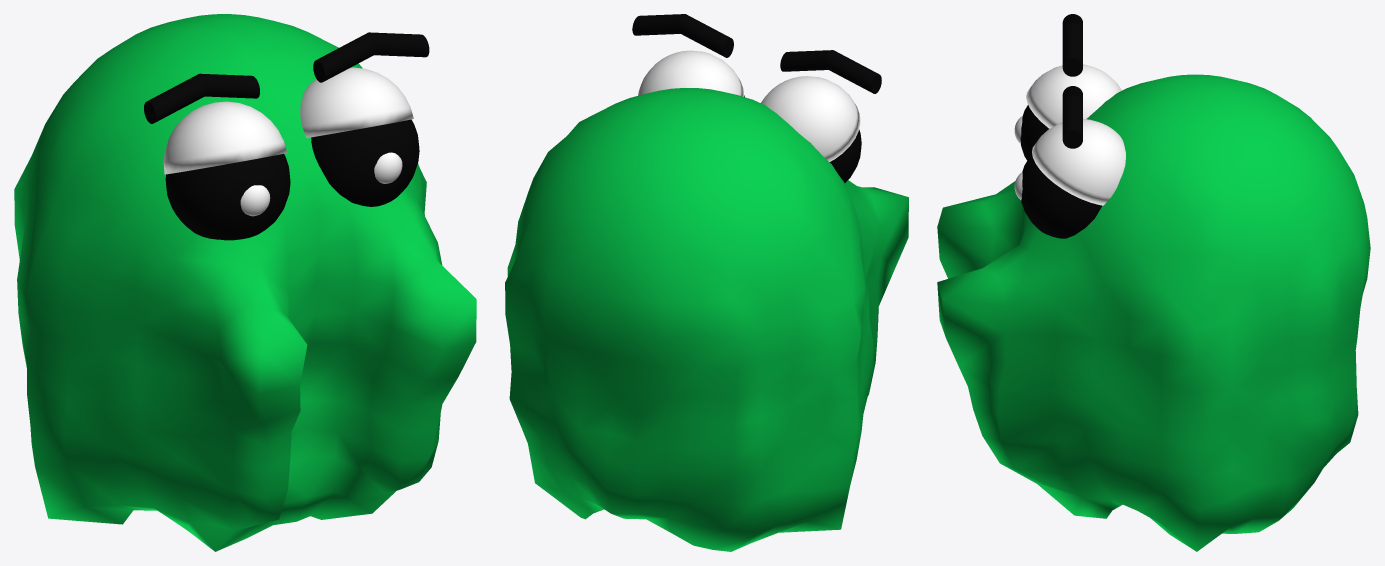
The model's file is ghost_game 3.dae.
3 views of the same model, side by side, from view 1: azimuth 30°, elevation 25°; view 2: azimuth 150°, elevation 25°; view 3: azimuth 270°, elevation 25° (orthographic). The views are drawn at different scales.
Visible parts, largest first — view 1: Cylinder-006; view 2: Cylinder-006; view 3: Cylinder-006.
Part boxes in pixels (x1=…): Cylinder-006: x1=14, y1=14, x2=476, y2=551; Cylinder-006: x1=505, y1=14, x2=908, y2=551; Cylinder-006: x1=937, y1=14, x2=1370, y2=551.
Size of the model in its own units: 1.06 by 1.27 by 1.15.
